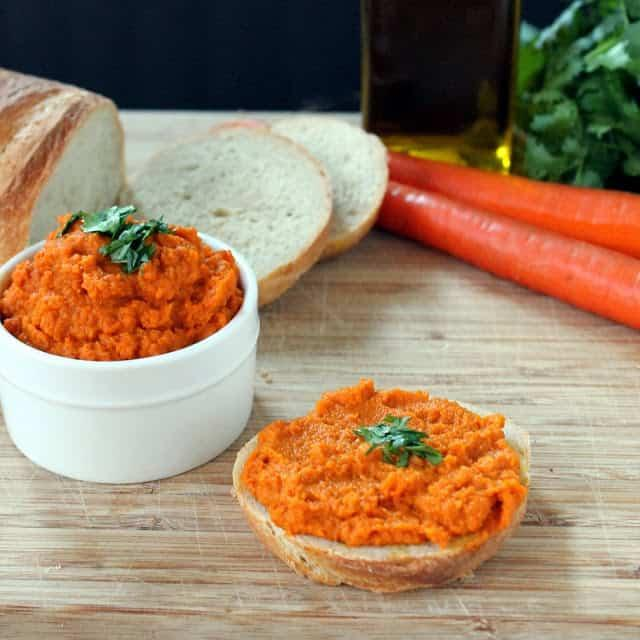Spread: (243, 376, 537, 550)
